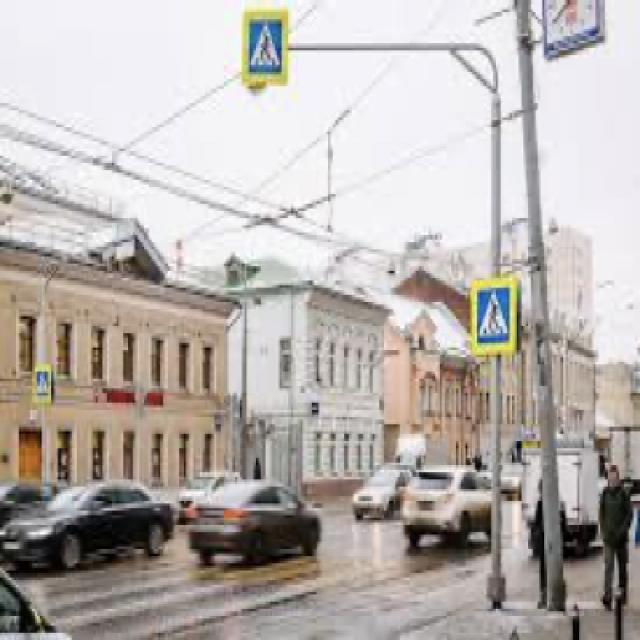crosswalk_sign: (473, 284, 512, 347), (244, 17, 284, 76)
